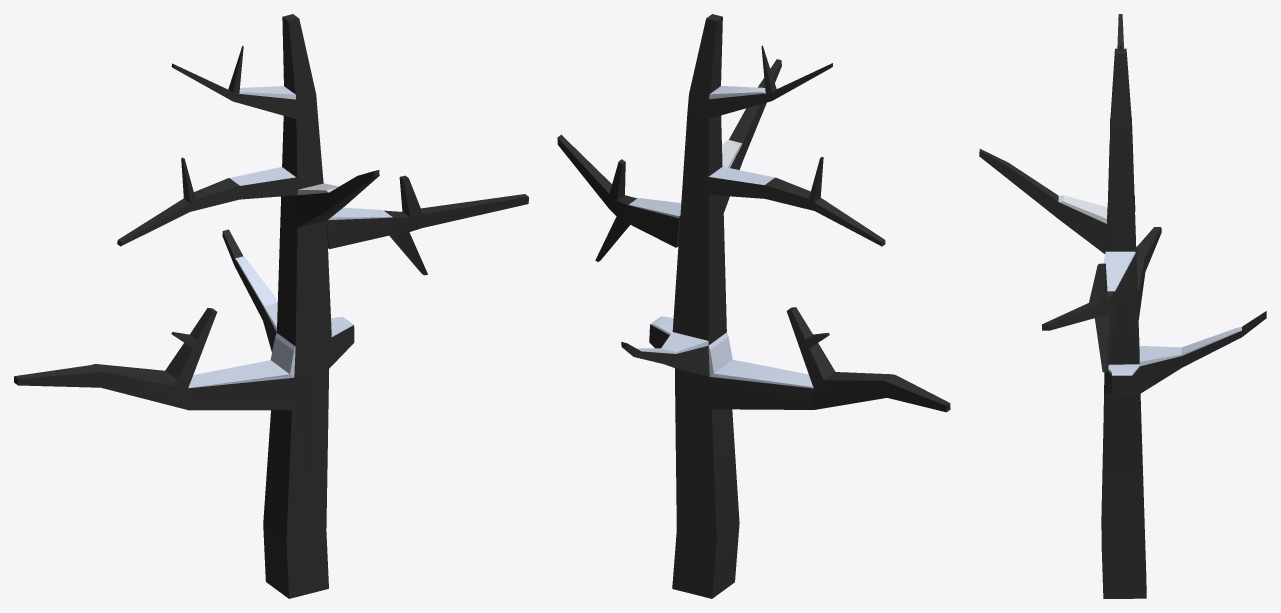
The model's file is tree_snow_2.fbx.
3 views of the same model, side by side, from view 1: azimuth 30°, elevation 25°; view 2: azimuth 150°, elevation 25°; view 3: azimuth 270°, elevation 25° (orthographic). The views are drawn at different scales.
Parts seen in each view (by area): view 1: TREE.009, TREE.007, TREE.008, TREE.010, TREE.013, TREE.012, TREE.011; view 2: TREE.009, TREE.007, TREE.008, TREE.013, TREE.010, TREE.012, TREE.011; view 3: TREE.009, TREE.007, TREE.010, TREE.013, TREE.011, TREE.008.
Boxes of the visible parts, x1,y1,x2,y2 form: TREE.009: (188, 229, 354, 598); TREE.007: (277, 114, 343, 346); TREE.008: (14, 308, 217, 409); TREE.010: (326, 175, 528, 275); TREE.013: (171, 14, 317, 119); TREE.012: (117, 157, 297, 246); TREE.011: (329, 170, 379, 209); TREE.009: (621, 316, 813, 598); TREE.007: (672, 113, 742, 345); TREE.008: (786, 307, 950, 412); TREE.013: (687, 14, 833, 118); TREE.010: (557, 134, 681, 261); TREE.012: (707, 156, 885, 246); TREE.011: (729, 59, 781, 159); TREE.009: (1101, 311, 1266, 598); TREE.007: (1057, 144, 1139, 364); TREE.010: (1042, 251, 1136, 372); TREE.013: (1109, 14, 1132, 151); TREE.011: (979, 149, 1058, 217); TREE.008: (1136, 227, 1161, 319).
Bounding box in the file's own units: 12.68 × 15.36 × 7.48.
